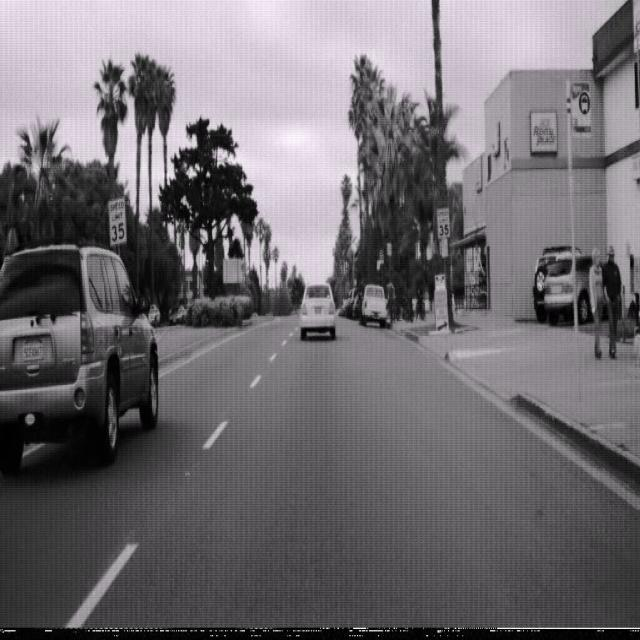speedLimit35: (107, 195, 127, 246), (436, 206, 451, 239)
